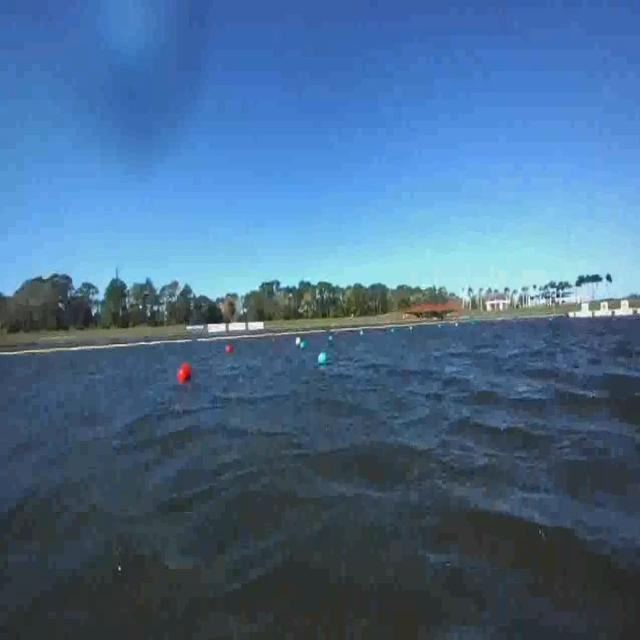green-buoy: (317, 346, 331, 368), (298, 337, 306, 352)
red-buoy: (180, 362, 197, 384), (225, 345, 232, 355)
